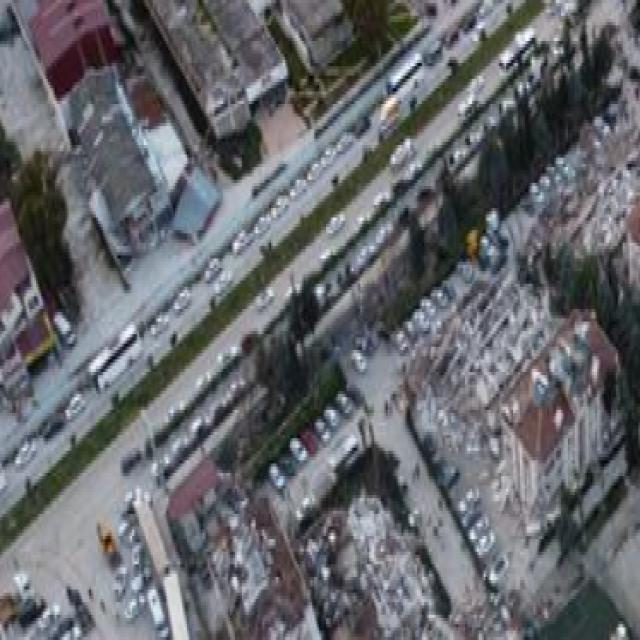Rubble: (331, 512, 433, 634), (446, 294, 538, 380), (570, 148, 636, 237), (61, 154, 106, 266), (461, 581, 534, 640), (128, 206, 160, 260)
